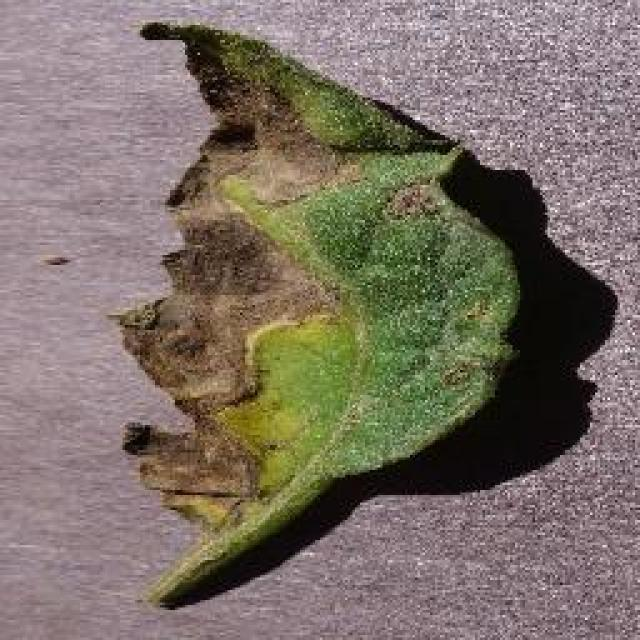Tomato Early blight leaf: (132, 24, 506, 611)
